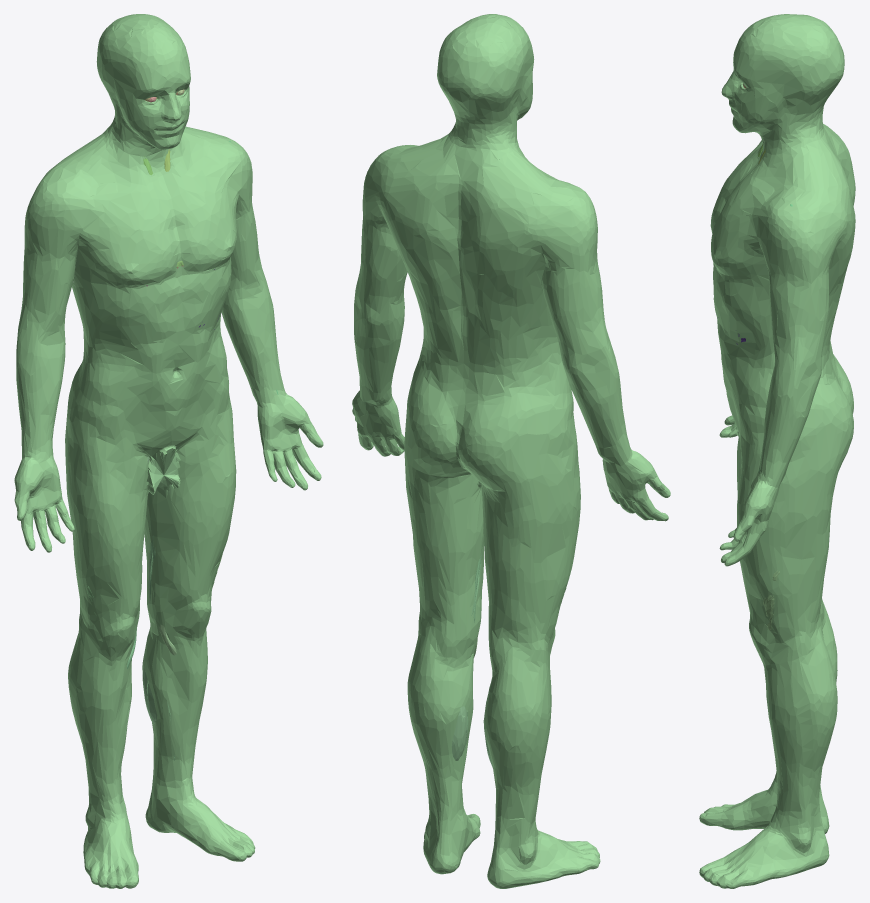
Rendered from body.glb.
3 views of the same model, side by side, from view 1: azimuth 30°, elevation 25°; view 2: azimuth 150°, elevation 25°; view 3: azimuth 270°, elevation 25° (orthographic). The views are drawn at different scales.
Visible parts, largest first — view 1: skin|C; view 2: skin|C; view 3: skin|C.
Boxes of the visible parts, x1,y1,x2,y2 form: skin|C: [14, 14, 323, 888]; skin|C: [352, 14, 670, 888]; skin|C: [699, 14, 855, 888].
Size of the model in its own units: 0.6667 by 1.72 by 0.292.
